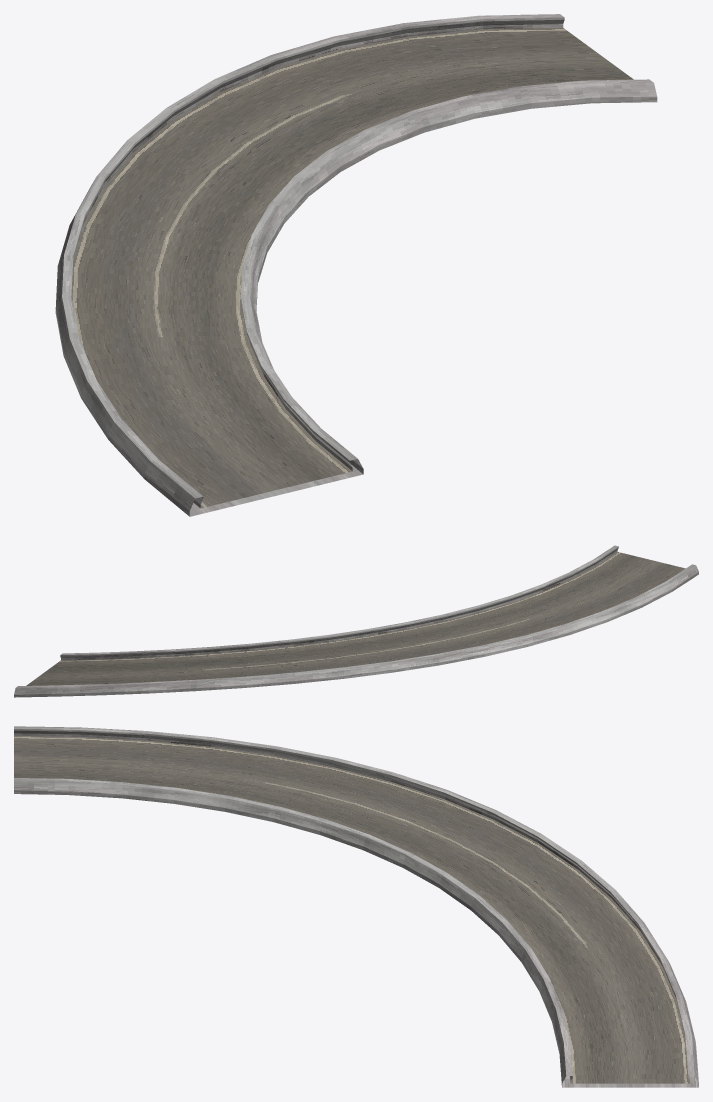
Rendered from turn-right5x5.glb.
The picture shows the model from 3 angles, top to bottom: view 1: azimuth 30°, elevation 25°; view 2: azimuth 150°, elevation 25°; view 3: azimuth 270°, elevation 25°; orthographic projection. The views are drawn at different scales.
Visible parts, largest first — view 1: road-Turn-Flat-BiSlopeDown-Down2-Right-Size5; view 2: road-Turn-Flat-BiSlopeDown-Down2-Right-Size5; view 3: road-Turn-Flat-BiSlopeDown-Down2-Right-Size5.
Part boxes in pixels (x1,y1,x2,y2): road-Turn-Flat-BiSlopeDown-Down2-Right-Size5: [55, 14, 657, 516]; road-Turn-Flat-BiSlopeDown-Down2-Right-Size5: [14, 545, 698, 697]; road-Turn-Flat-BiSlopeDown-Down2-Right-Size5: [14, 726, 698, 1087].
Size of the model in its own units: 5 by 0.6164 by 5.
2 materials, 2 textured.
